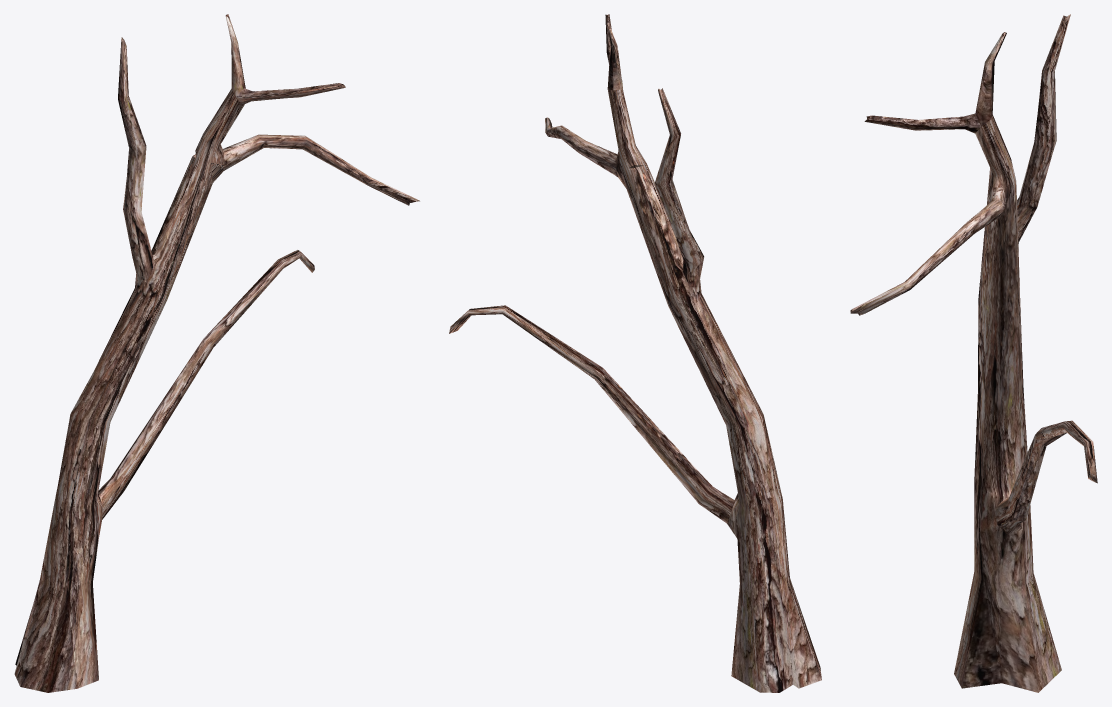
File: FBX_Tree3.fbx
3 renders of one model, left to right at view 1: azimuth 30°, elevation 25°; view 2: azimuth 150°, elevation 25°; view 3: azimuth 270°, elevation 25°, orthographic. The views are drawn at different scales.
Parts seen in each view (by area): view 1: tree4; view 2: tree4; view 3: tree4.
Part boxes in pixels (box(x1,y1,x2,y2)): tree4: box(14, 14, 419, 692); tree4: box(449, 14, 821, 692); tree4: box(850, 14, 1097, 692).
Size of the model in its own units: 609 by 1053 by 318.
